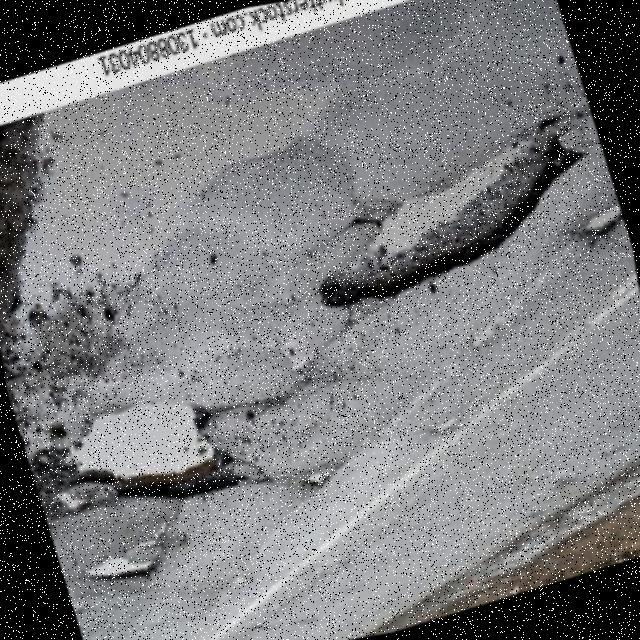Pothole: (318, 117, 584, 306), (62, 404, 239, 497), (84, 556, 162, 581), (303, 470, 327, 488)
